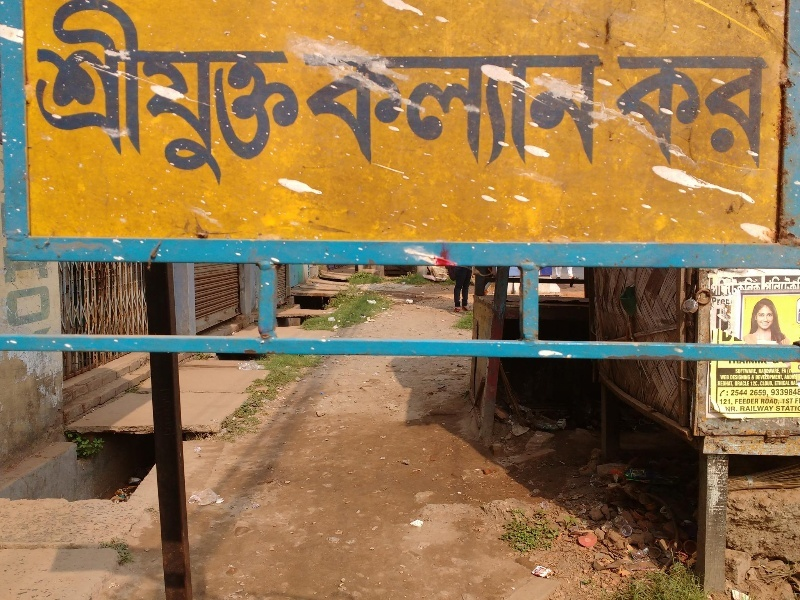text: (33, 1, 48, 187), (49, 1, 64, 187), (65, 1, 80, 187), (81, 1, 96, 187), (97, 1, 112, 187), (113, 1, 128, 187), (129, 1, 144, 187), (145, 1, 160, 187), (161, 1, 176, 187), (177, 1, 192, 187), (193, 1, 208, 187), (209, 1, 224, 187), (225, 1, 240, 187), (241, 1, 256, 187), (257, 1, 272, 187), (273, 1, 288, 187), (289, 1, 301, 187), (705, 273, 720, 415), (721, 273, 736, 415), (737, 273, 752, 415), (753, 273, 768, 415), (769, 273, 784, 415), (785, 273, 800, 415), (625, 47, 640, 170), (641, 47, 656, 170), (657, 47, 672, 170), (673, 47, 688, 170), (689, 47, 704, 170), (705, 47, 720, 170), (721, 47, 736, 170), (737, 47, 752, 170), (753, 47, 768, 170), (305, 51, 320, 169), (321, 51, 336, 169), (337, 51, 352, 169), (353, 51, 368, 169), (369, 51, 384, 169), (385, 51, 400, 169), (401, 51, 416, 169), (417, 51, 432, 169), (433, 51, 448, 169), (449, 51, 464, 169), (465, 51, 480, 169), (481, 51, 496, 169), (497, 51, 512, 169), (513, 51, 528, 169), (529, 51, 544, 169), (545, 51, 560, 169), (561, 51, 576, 169), (577, 51, 592, 169), (593, 51, 607, 169), (613, 47, 624, 170), (299, 51, 304, 169), (29, 1, 32, 187), (769, 47, 770, 170)
